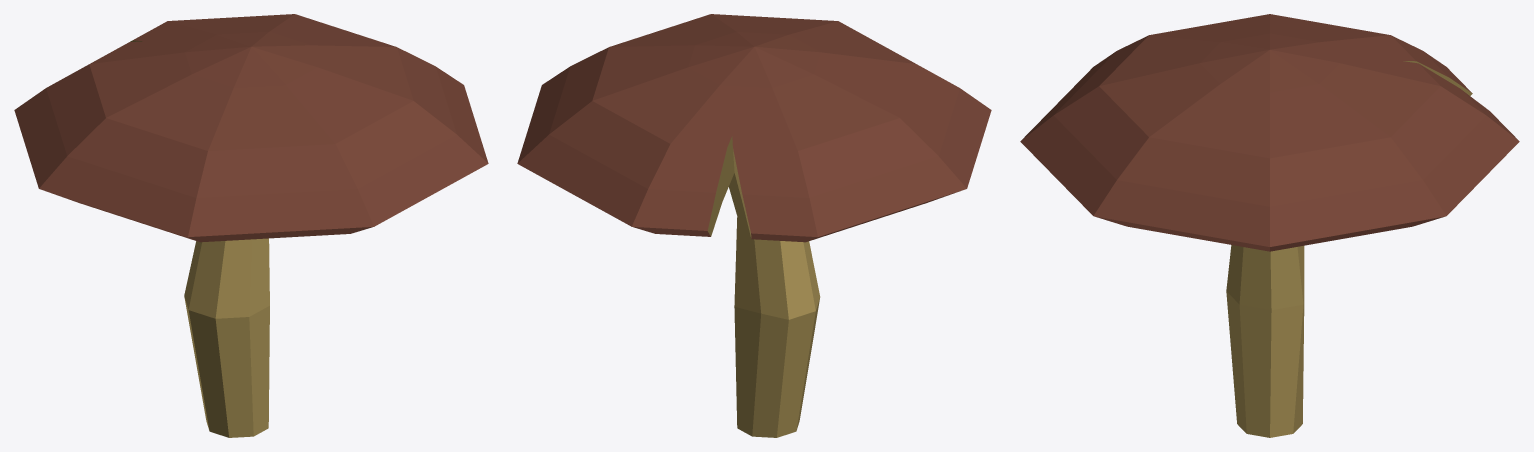
The model's file is grzyb.fbx.
The picture shows the model from 3 angles, left to right: view 1: azimuth 30°, elevation 25°; view 2: azimuth 150°, elevation 25°; view 3: azimuth 270°, elevation 25°; orthographic projection.
Parts seen in each view (by area): view 1: Walec; view 2: Walec; view 3: Walec.
Boxes of the visible parts, bbox=[...] form: Walec: bbox=[14, 14, 488, 437]; Walec: bbox=[517, 14, 991, 437]; Walec: bbox=[1020, 14, 1519, 437].
Bounding box in the file's own units: 133 × 112 × 133.
